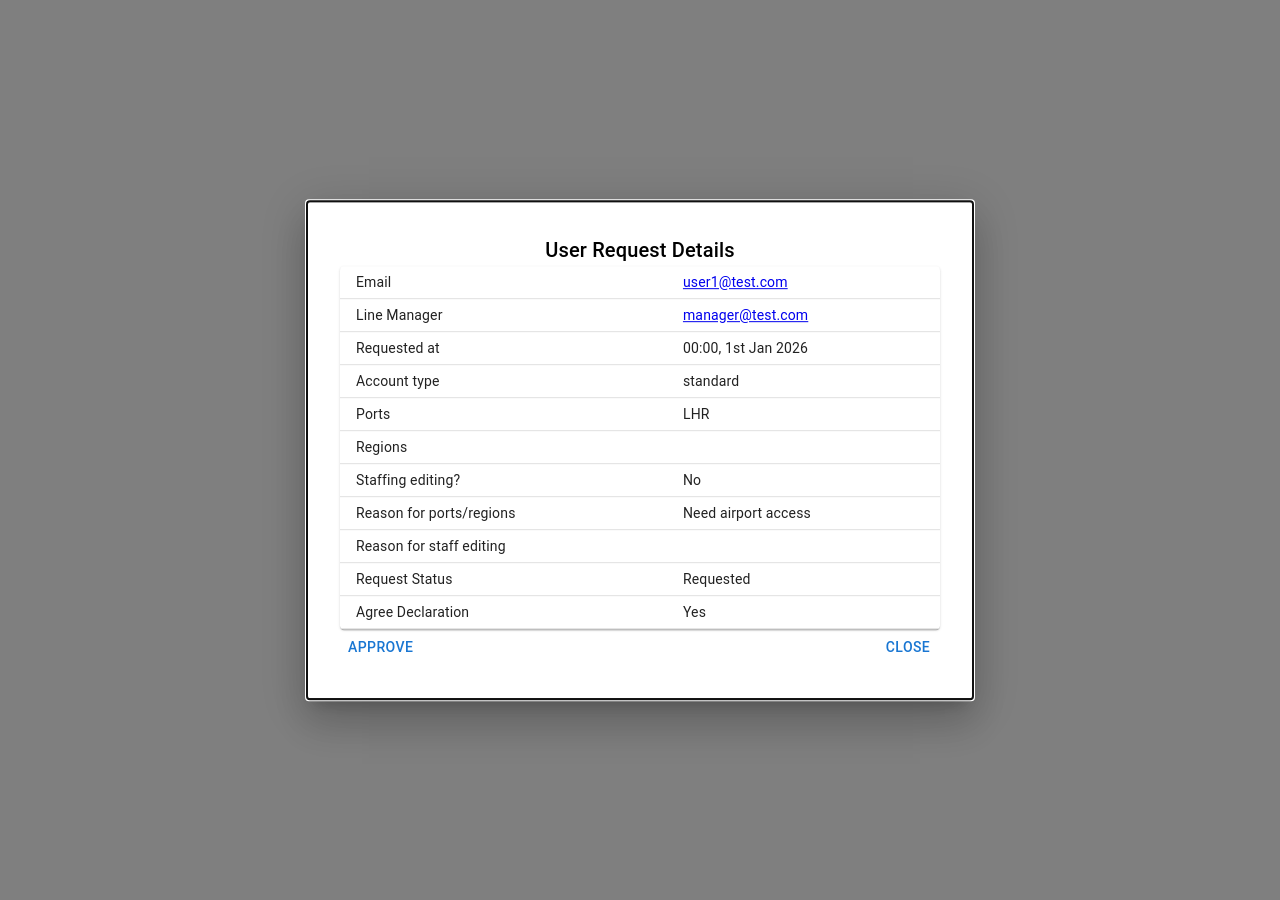
Test: <AccessRequestDetails /> › waits for user-details GET and approval POST before showing success confirmation
Click the button "Approve" at (381, 648), box x1=340 y1=629 x2=421 y2=666
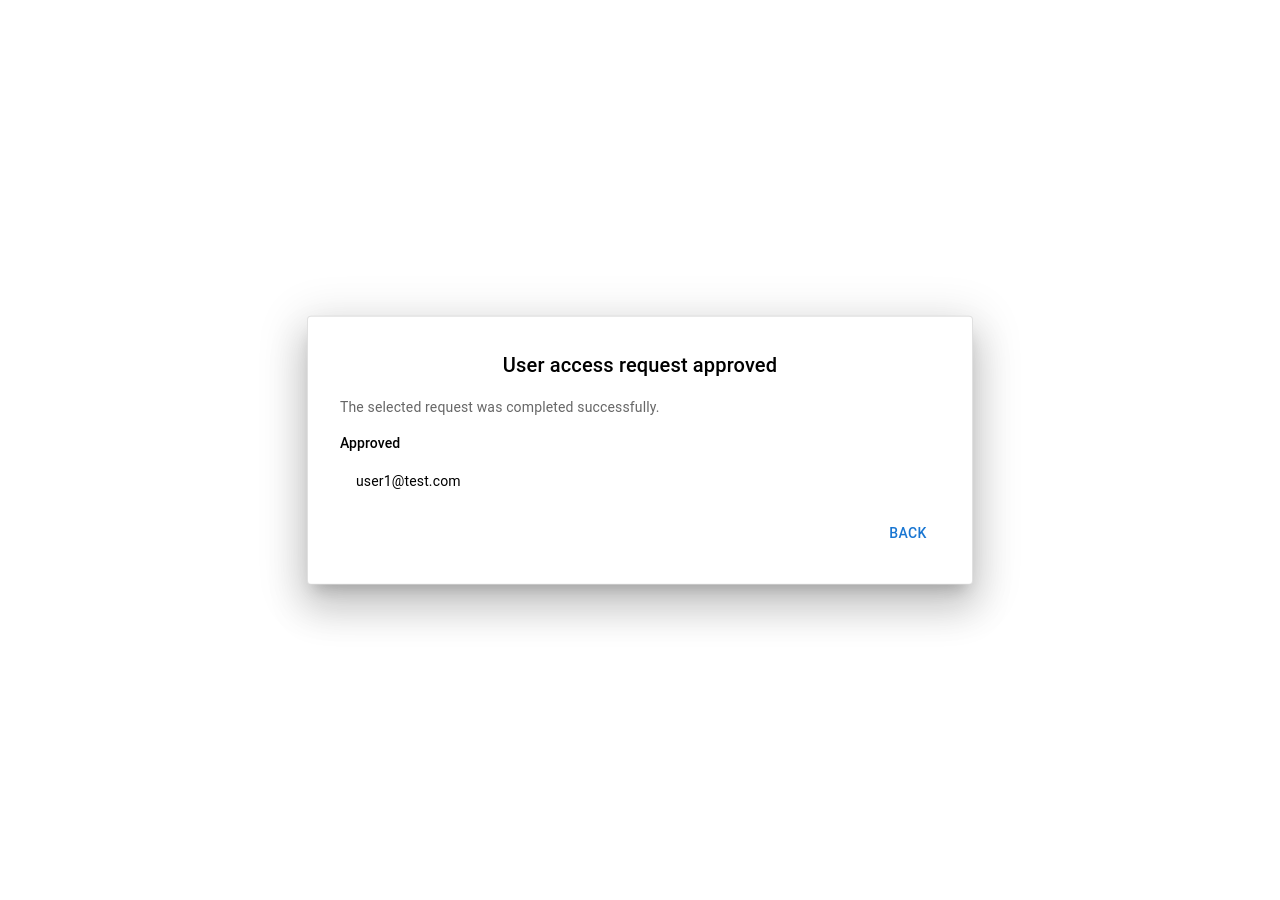
Expected: the heading "User access request approved" is shown, x1=503 y1=353 x2=777 y2=377
Expected: the text "The selected request was completed successfully." is shown, x1=340 y1=399 x2=660 y2=415
Expected: the heading "Approved" is shown, x1=340 y1=435 x2=400 y2=451
